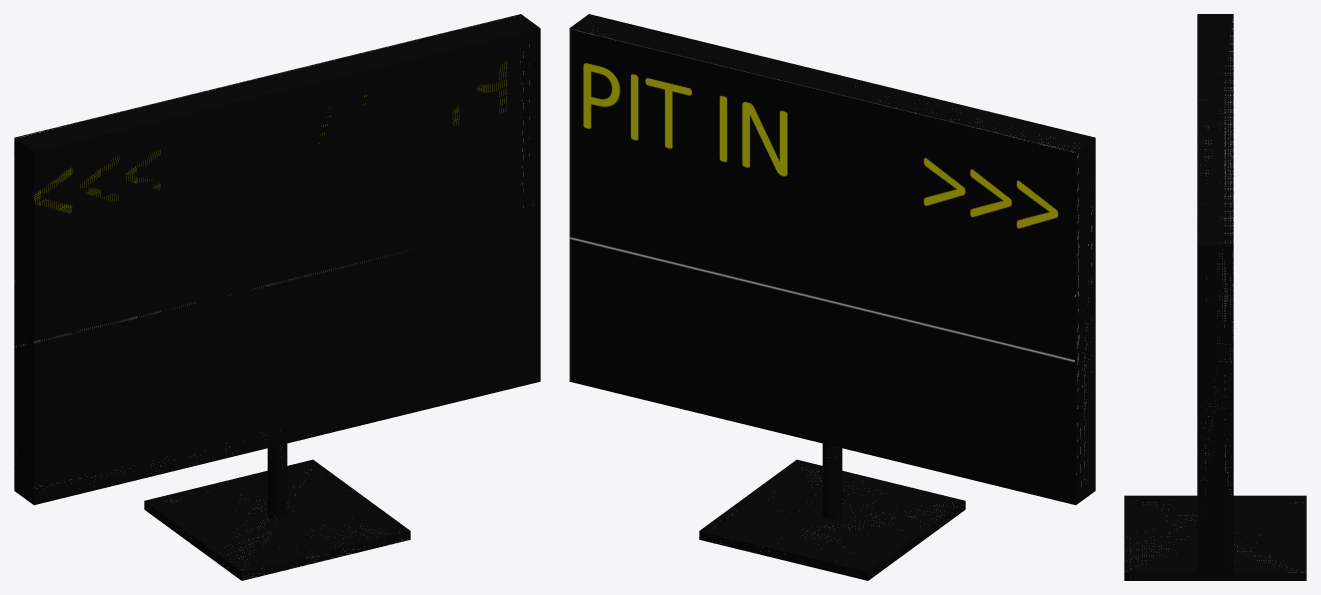
Rendered from PIT_IN.dae.
3 views of the same model, side by side, from view 1: azimuth 30°, elevation 25°; view 2: azimuth 150°, elevation 25°; view 3: azimuth 270°, elevation 25° (orthographic). The views are drawn at different scales.
Parts seen in each view (by area): view 1: Schild; view 2: Schild; view 3: Schild.
Boxes of the visible parts, box(x1,y1,x2,y2) form: Schild: box(14, 14, 540, 580); Schild: box(569, 14, 1095, 580); Schild: box(1124, 14, 1306, 580).
Bounding box in the file's own units: 0.3 × 0.1 × 0.25.
1 material, 1 textured.
